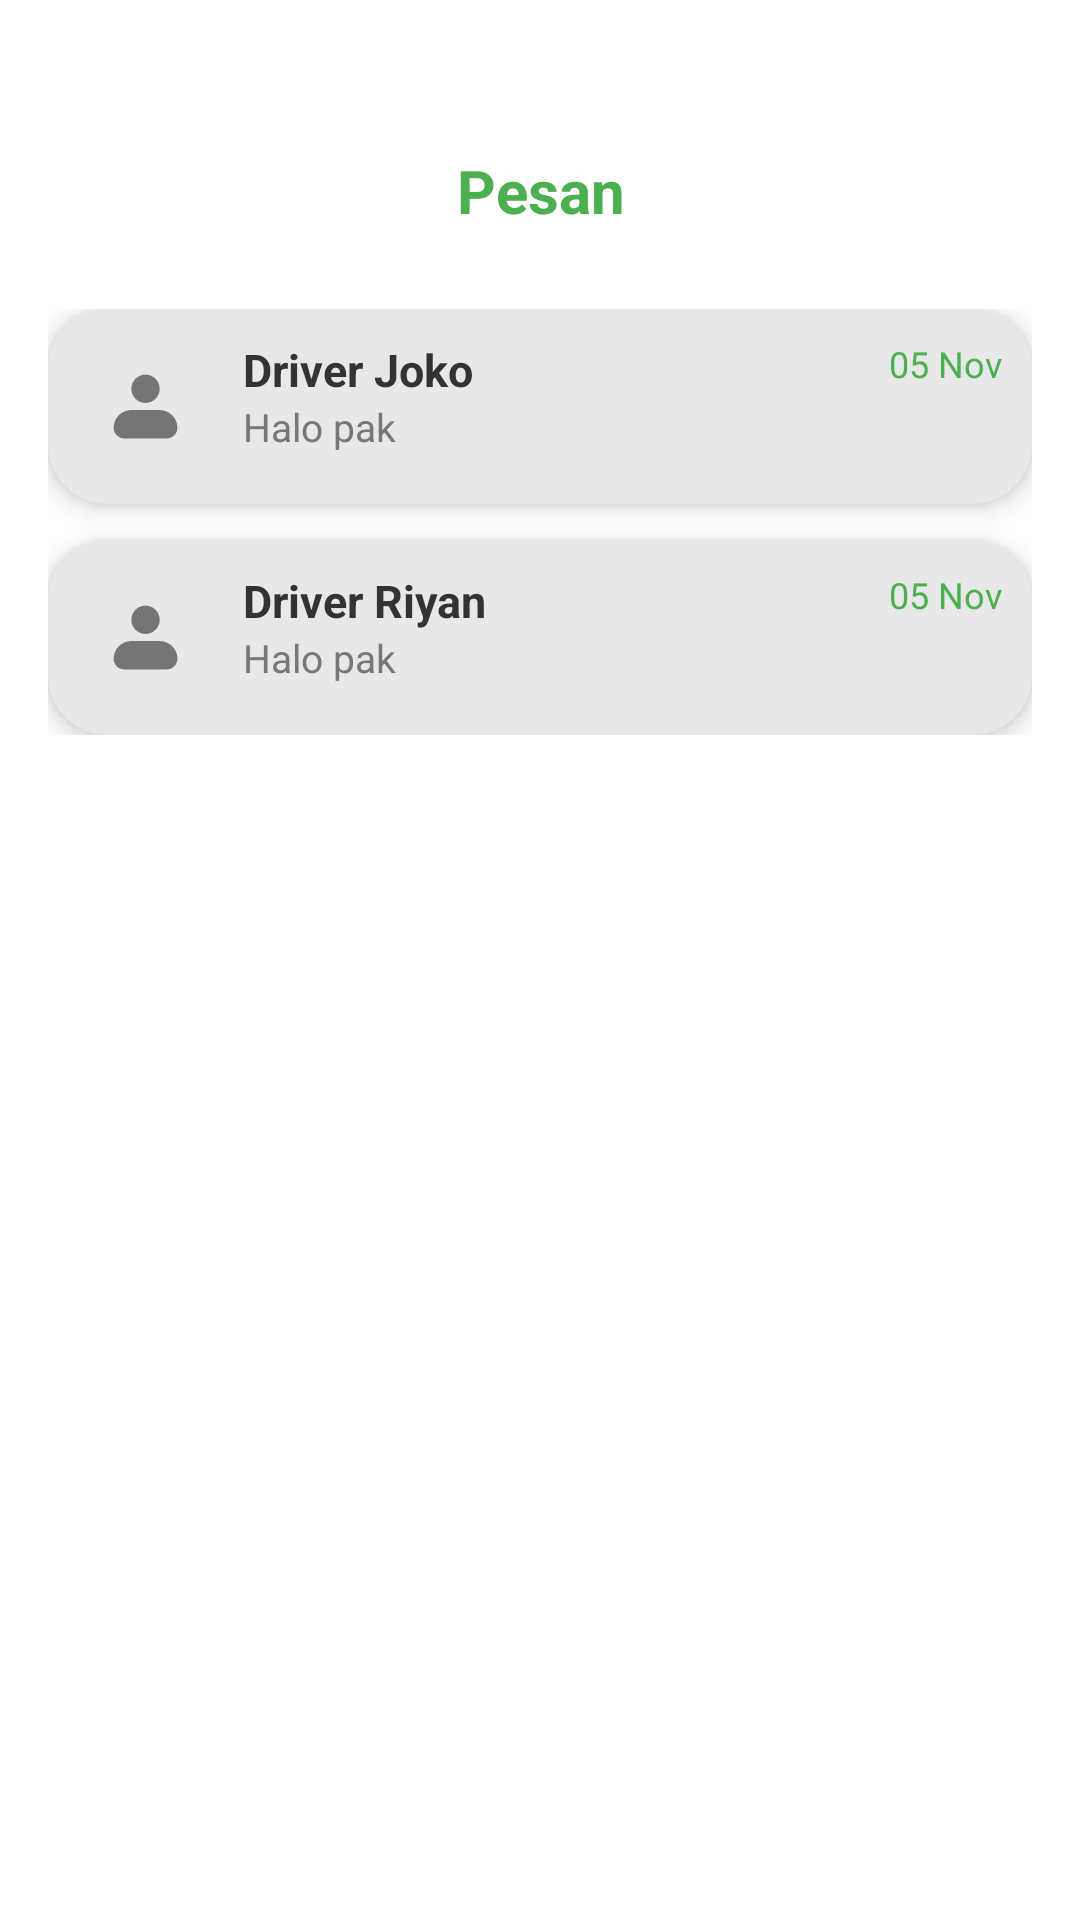

Screen size 1080*1920. Icon name, then its center in pixels as (x=x, y=y):
profile: (x=145, y=406), (x=145, y=637)
